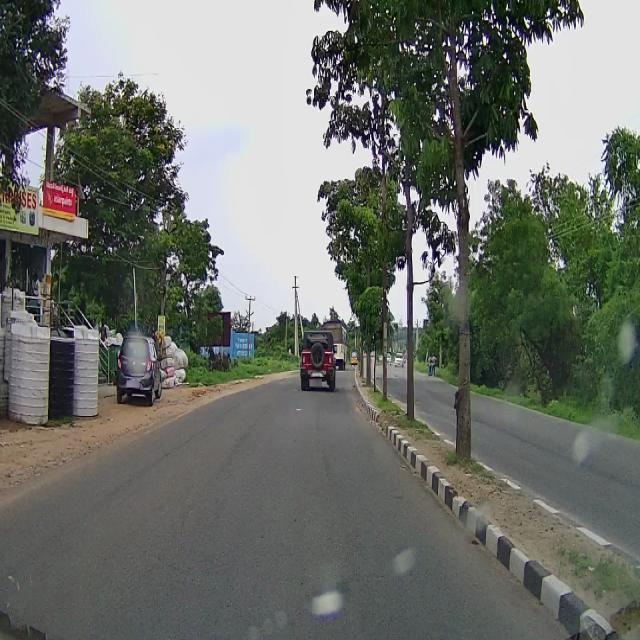car ahead at: (113, 327, 165, 424), (292, 327, 342, 404)
